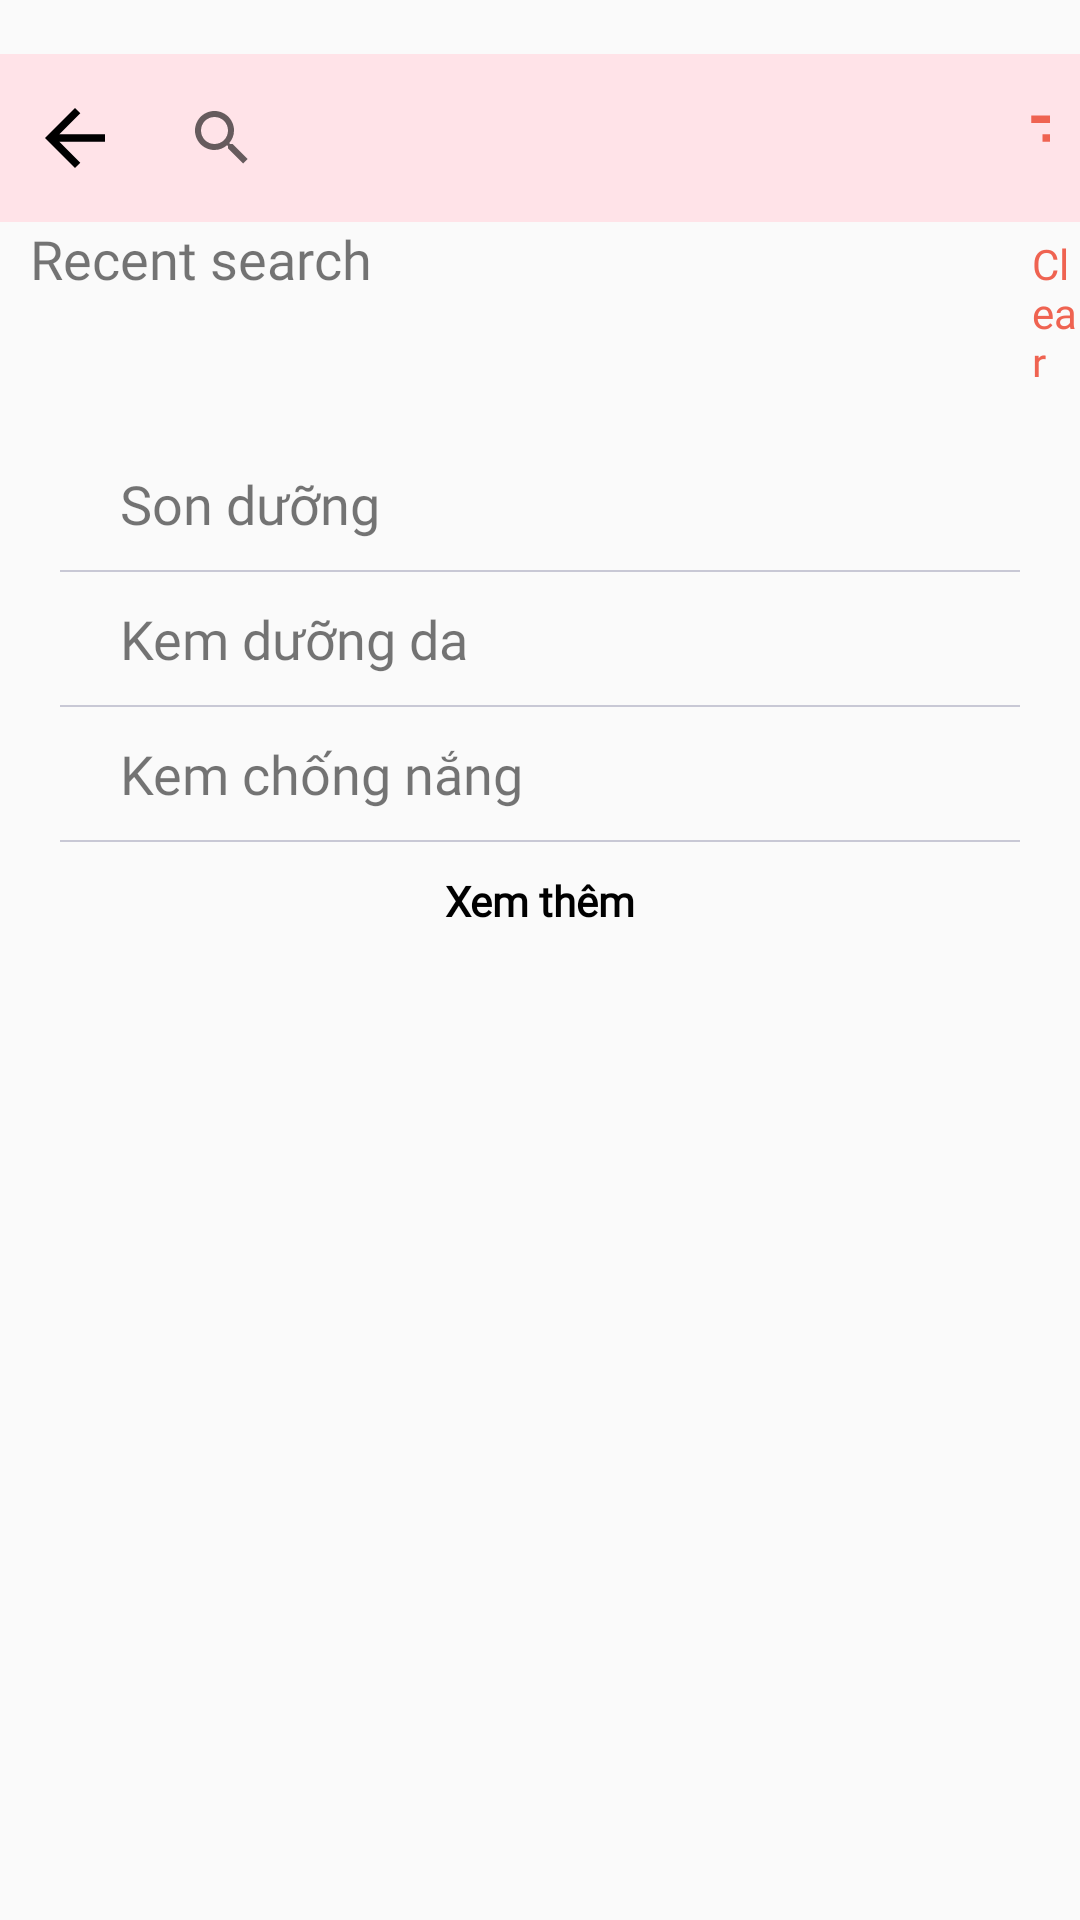

Icons on this 1080 x 1920 Android screen, each with the point to tap as (x,y):
imv back: (75,138)
